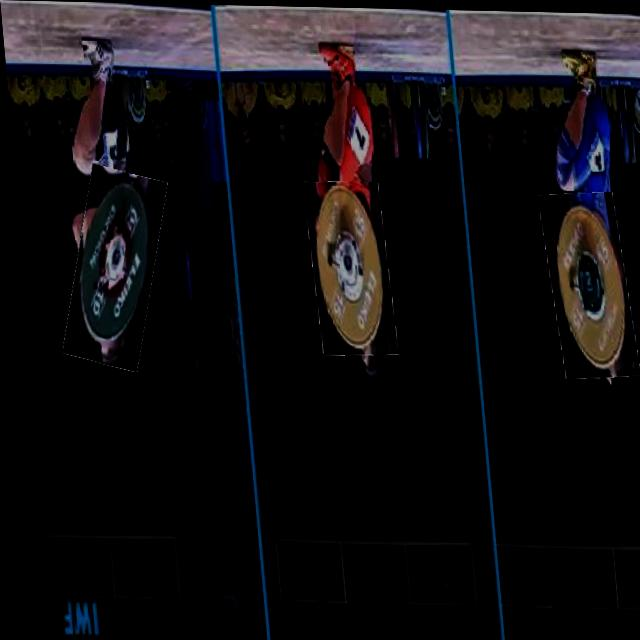barbell: (55, 167, 167, 370), (538, 190, 633, 378), (302, 181, 392, 356)
